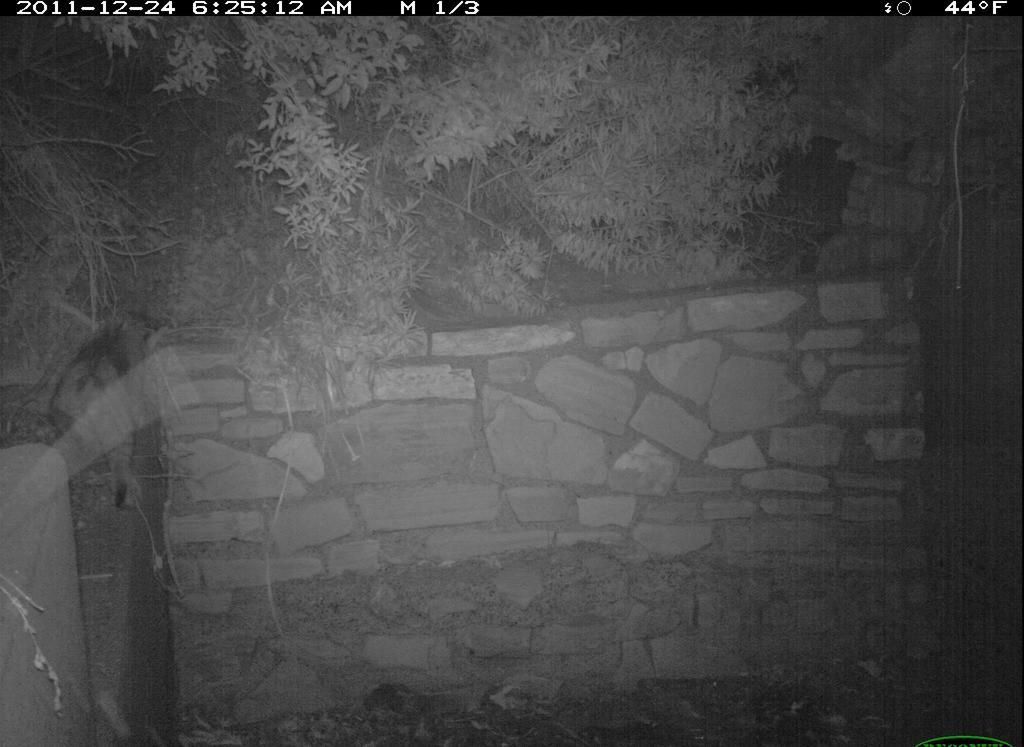bobcat: (54, 310, 176, 510)
